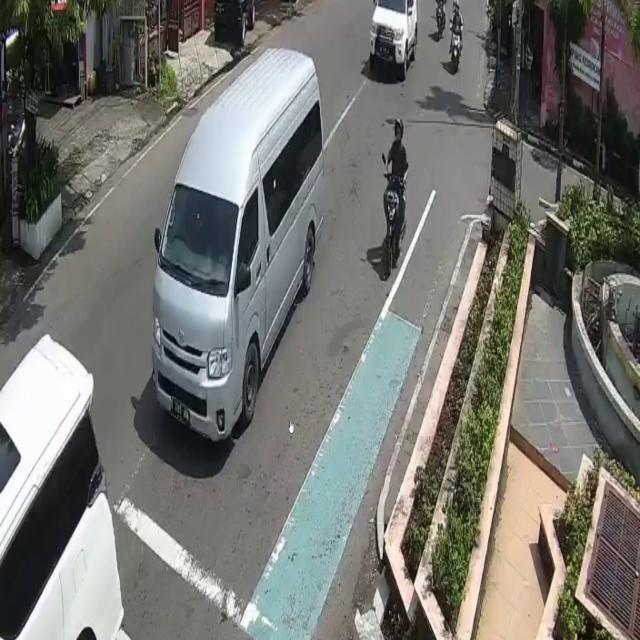bus: (153, 49, 323, 442)
car: (0, 330, 127, 640), (371, 0, 418, 78)
motorbike: (384, 171, 402, 280), (450, 22, 462, 72)
